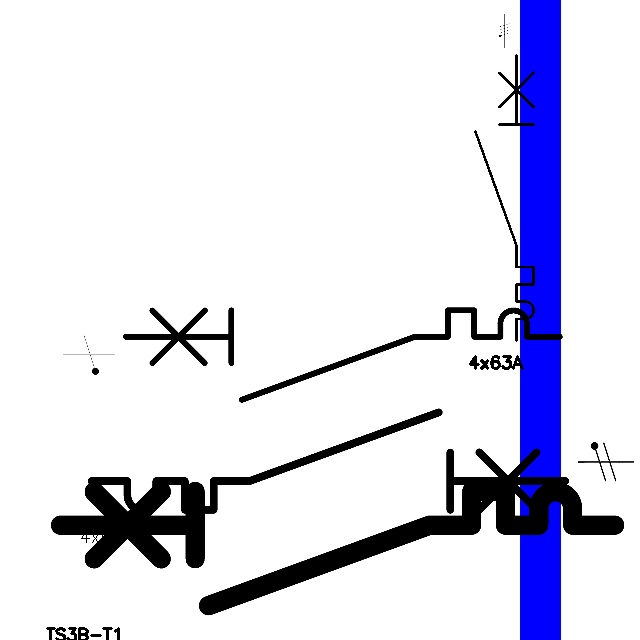interruptor_termomagnetico: (46, 477, 629, 620), (79, 400, 578, 522), (114, 299, 570, 410), (468, 47, 541, 347)
